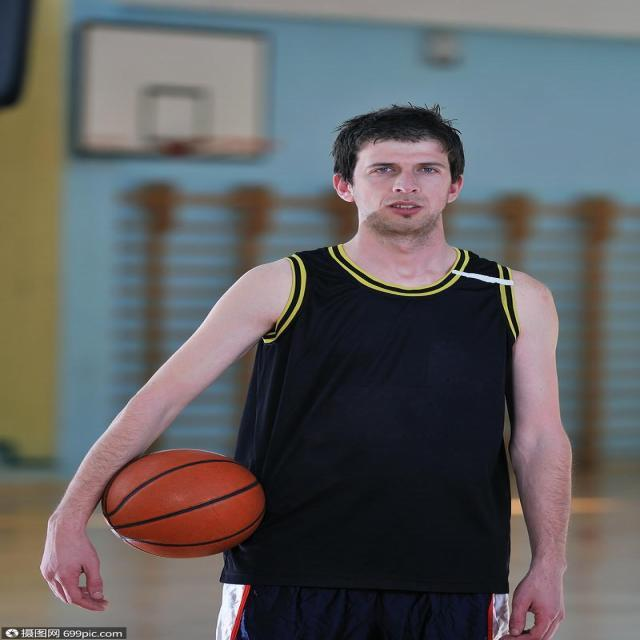rim: (92, 446, 268, 559)
